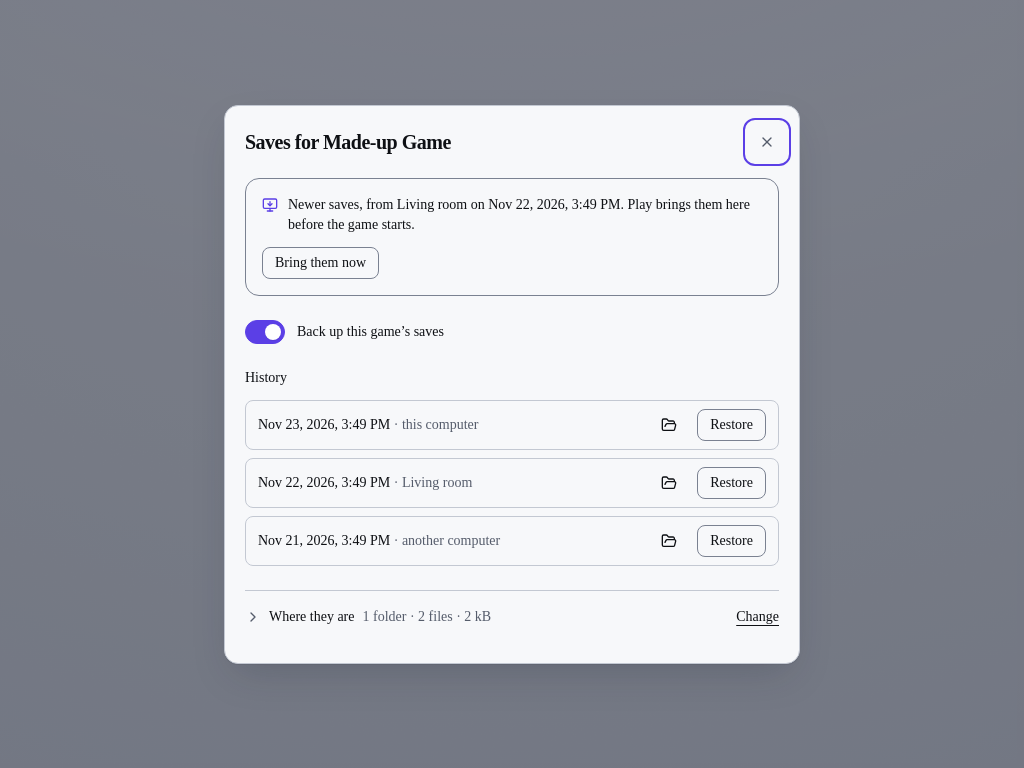
Test case: a game’s saves › says Play brings the newer saves another computer made, and brings them at once when asked
The image size is (1024, 768).
Expected: the switch labelled "Back up this game’s saves" is shown, [245,320,285,344]
// What is here is unchanged since this computer's last backup: nothing is lost, so nothing is asked.
Step 1. Click the button "Bring them now" → [320, 262], box [262,246,379,278]
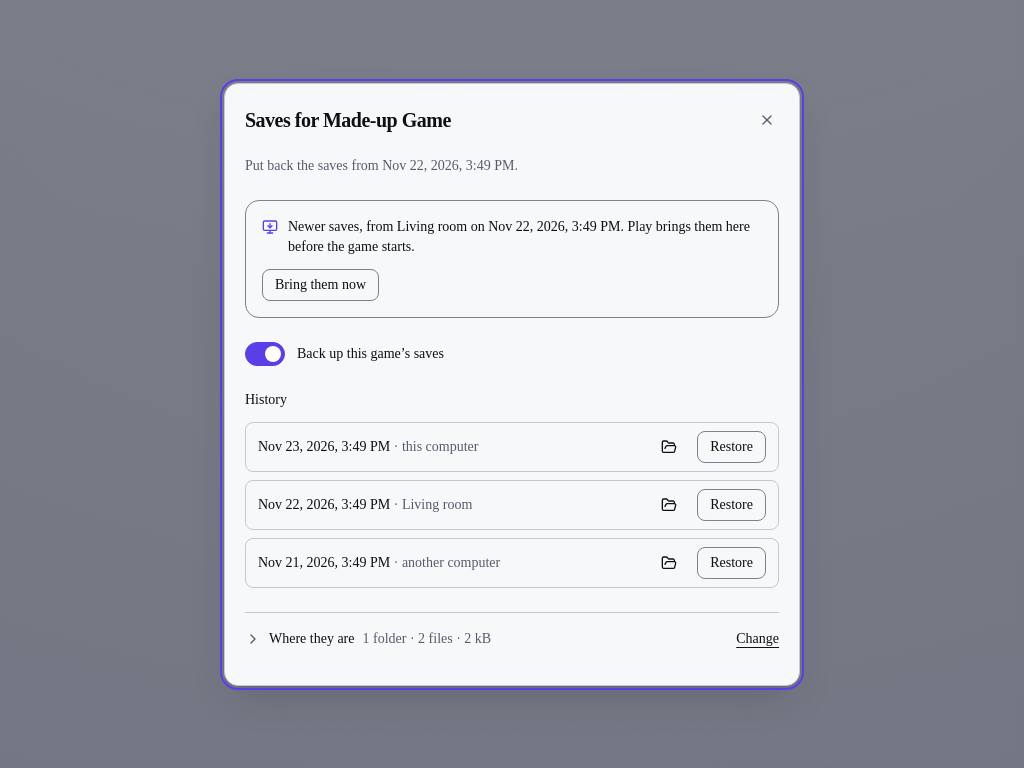
Now the message shows "Put back the saves from", box [245,158,518,172]
